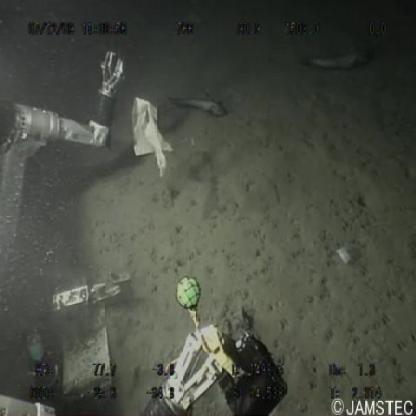Bio: (168, 89, 229, 120), (296, 45, 374, 69)
Rov: (2, 45, 294, 416)
Rác: (129, 95, 176, 179), (334, 244, 354, 274)
